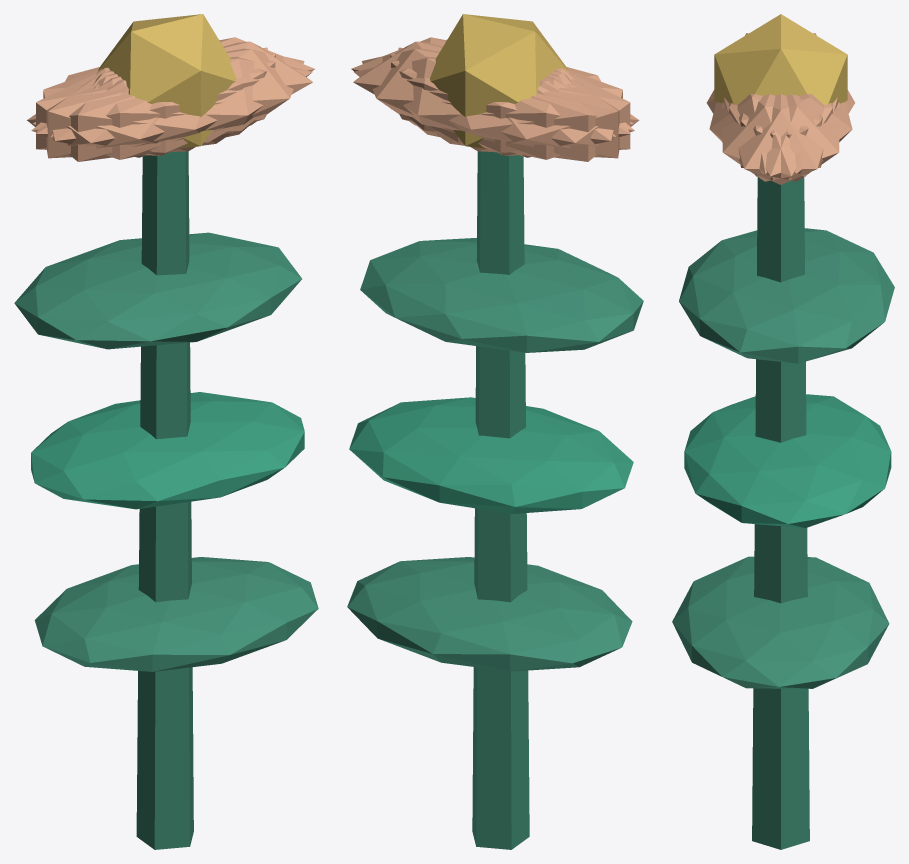
File: neolamarckia-cadamba.glb
3 views of the same model, side by side, from view 1: azimuth 30°, elevation 25°; view 2: azimuth 150°, elevation 25°; view 3: azimuth 270°, elevation 25° (orthographic).
Parts seen in each view (by area): view 1: stem, leaf2, leaf0, leaf1, center, petal1, petal6, petal2, petal5, petal7, petal0, petal4 (+2 smaller); view 2: stem, leaf1, leaf2, leaf0, center, petal8, petal3, petal7, petal4, petal2, petal0, petal5 (+2 smaller); view 3: stem, leaf2, leaf0, leaf1, center, petal0, petal4, petal5, petal1, petal8.
Boxes of the visible parts, left/top/right/bottom form: stem: left=136, top=151, right=193, bottom=849; leaf2: left=14, top=232, right=301, bottom=349; leaf0: left=34, top=557, right=318, bottom=671; leaf1: left=31, top=392, right=304, bottom=509; center: left=98, top=14, right=236, bottom=148; petal1: left=31, top=56, right=312, bottom=159; petal6: left=27, top=69, right=230, bottom=161; petal2: left=46, top=47, right=267, bottom=158; petal5: left=50, top=48, right=304, bottom=152; petal7: left=36, top=53, right=275, bottom=155; petal0: left=97, top=41, right=312, bottom=142; petal4: left=33, top=37, right=314, bottom=134; stem: left=472, top=151, right=529, bottom=849; leaf1: left=349, top=397, right=633, bottom=513; leaf2: left=360, top=238, right=643, bottom=352; leaf0: left=347, top=557, right=632, bottom=671; center: left=430, top=14, right=568, bottom=148; petal8: left=354, top=56, right=634, bottom=159; petal3: left=436, top=69, right=639, bottom=161; petal7: left=398, top=47, right=619, bottom=158; petal4: left=362, top=48, right=615, bottom=152; petal2: left=390, top=53, right=630, bottom=155; petal0: left=353, top=41, right=568, bottom=142; petal5: left=351, top=37, right=633, bottom=134; stem: left=752, top=177, right=809, bottom=849; leaf2: left=679, top=228, right=894, bottom=363; leaf0: left=672, top=556, right=889, bottom=688; leaf1: left=684, top=394, right=891, bottom=527; center: left=714, top=14, right=847, bottom=104; petal0: left=724, top=94, right=837, bottom=184; petal4: left=729, top=94, right=839, bottom=181; petal5: left=722, top=94, right=832, bottom=181; petal1: left=709, top=94, right=822, bottom=173; petal8: left=739, top=94, right=852, bottom=173.
Bounding box in the file's own units: 0.1452 × 0.4089 × 0.1025.
